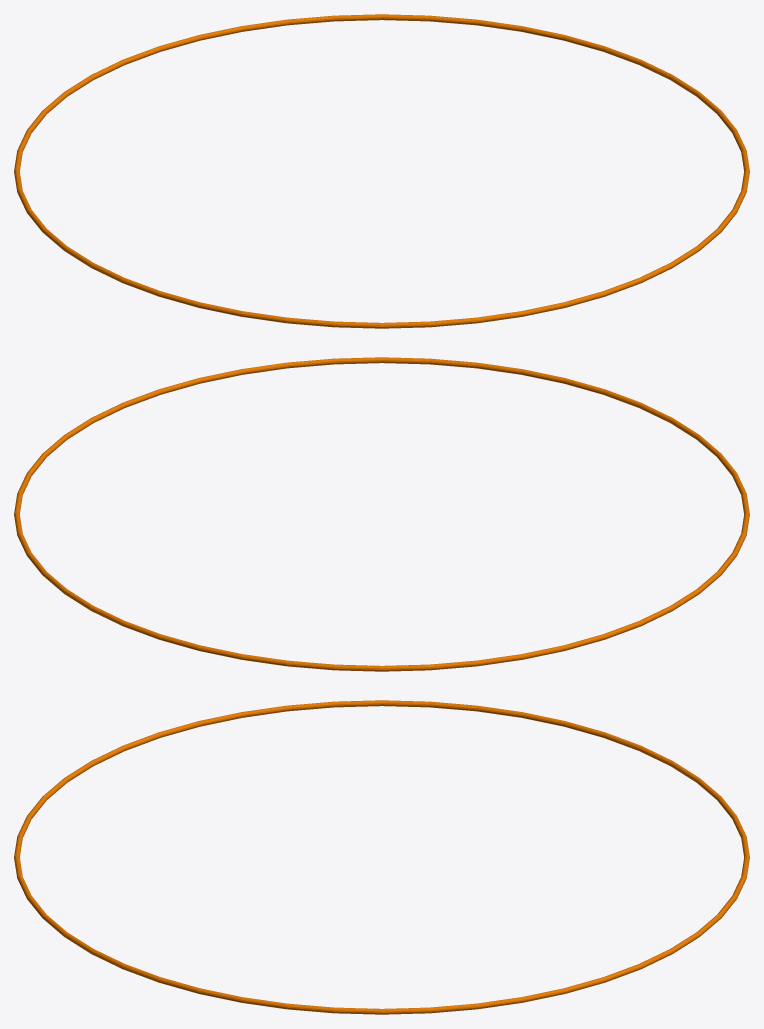
The model's file is bike_routes.glb.
The picture shows the model from 3 angles, top to bottom: view 1: azimuth 30°, elevation 25°; view 2: azimuth 150°, elevation 25°; view 3: azimuth 270°, elevation 25°; orthographic projection.
Visible parts, largest first — view 1: bicycle_routes.glb; view 2: bicycle_routes.glb; view 3: bicycle_routes.glb.
Boxes of the visible parts, box(x1,y1,x2,y2) form: bicycle_routes.glb: box(14, 14, 749, 328); bicycle_routes.glb: box(14, 357, 749, 671); bicycle_routes.glb: box(14, 700, 749, 1014).
Size of the model in its own units: 63.3 by 0.5 by 63.3.
